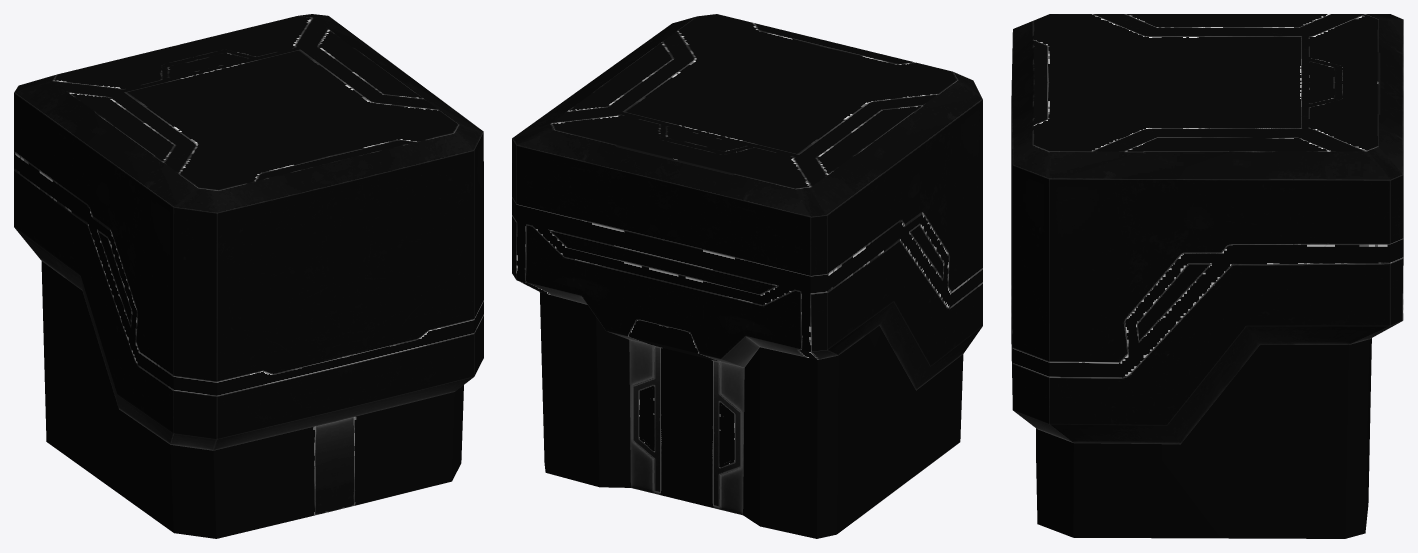
File: propCrate.glb
The picture shows the model from 3 angles, left to right: view 1: azimuth 30°, elevation 25°; view 2: azimuth 150°, elevation 25°; view 3: azimuth 270°, elevation 25°; orthographic projection. The views are drawn at different scales.
Visible parts, largest first — view 1: propCrate; view 2: propCrate; view 3: propCrate.
Part boxes in pixels (x1,y1,x2,y2): propCrate: (14,14,483,538); propCrate: (512,14,982,538); propCrate: (1011,14,1403,538).
Bounding box in the file's own units: 1 × 1.06 × 0.9966.
Materials: 1 (1 with a texture image).
